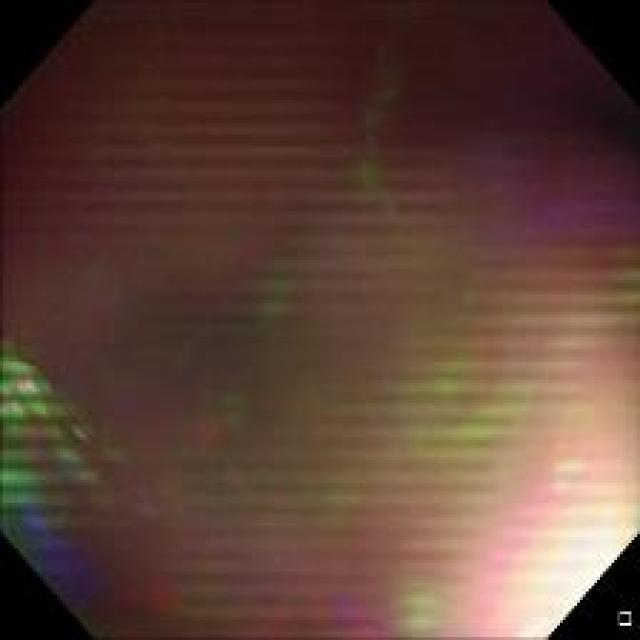color misalignment: (10, 11, 628, 632), (4, 341, 109, 612)
saturation: (451, 460, 631, 628)
